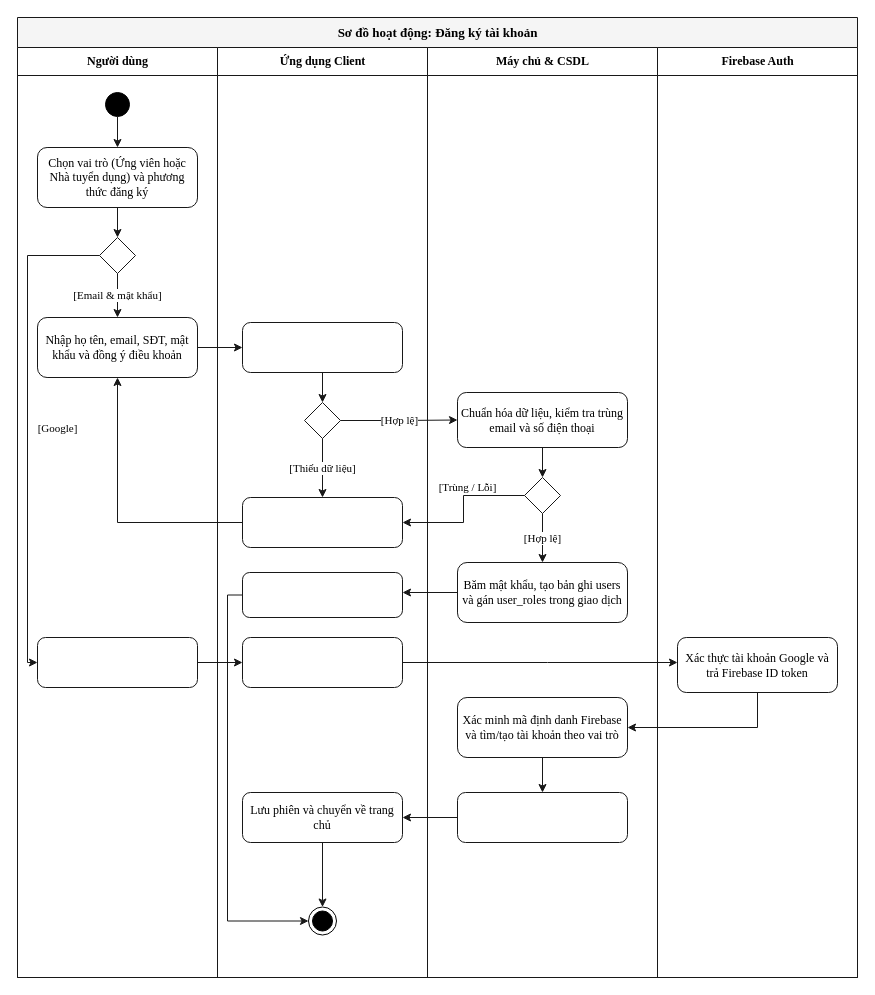
This 875x995 diagram has some shape labels left out. Here are the shapes that lost their labels. From the top down, the centre of each, then its label:
At (x=322, y=347): "Kiểm tra điều khoản và dữ liệu bắt buộc".
At (x=322, y=522): "Hiển thị thông báo lỗi trên biểu mẫu".
At (x=322, y=595): "Chuyển đến trang đăng nhập".
At (x=117, y=662): "Chọn đăng ký bằng tài khoản Google".
At (x=322, y=662): "Mở cửa sổ xác thực Firebase".
At (x=542, y=817): "Cấp access token và lưu hash refresh_tokens".
